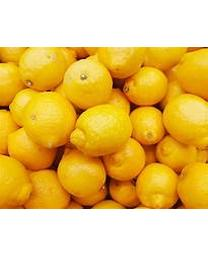lemon: (20, 93, 80, 148), (72, 104, 133, 156), (66, 59, 113, 108), (167, 94, 207, 145), (137, 164, 181, 210), (59, 152, 106, 194), (20, 48, 67, 89), (122, 69, 169, 106), (129, 107, 166, 145)
